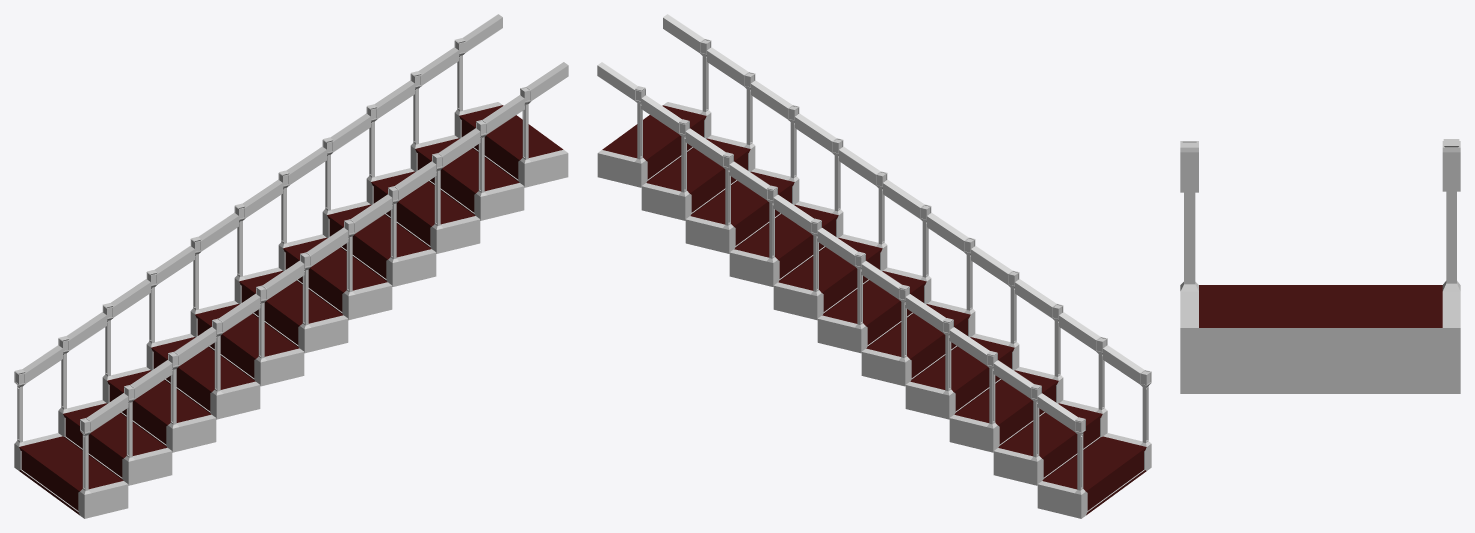
The model's file is Arch_Stairs_Basic.fbx.
The picture shows the model from 3 angles, left to right: view 1: azimuth 30°, elevation 25°; view 2: azimuth 150°, elevation 25°; view 3: azimuth 270°, elevation 25°; orthographic projection. The views are drawn at different scales.
Parts seen in each view (by area): view 1: StairsStraight; view 2: StairsStraight; view 3: StairsStraight.
Boxes of the visible parts, x1,y1,x2,y2 form: StairsStraight: (14,14,568,518); StairsStraight: (597,14,1151,518); StairsStraight: (1180,139,1460,393).
Size of the model in its own units: 660 by 437 by 166.
